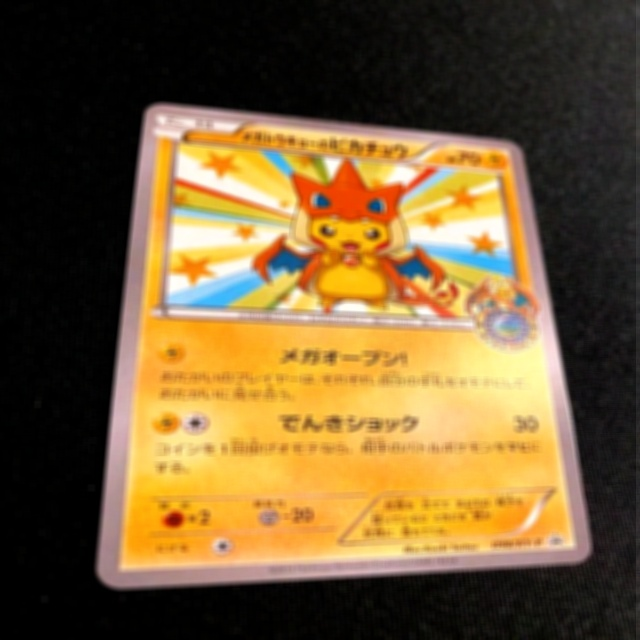card: (93, 101, 594, 590)
